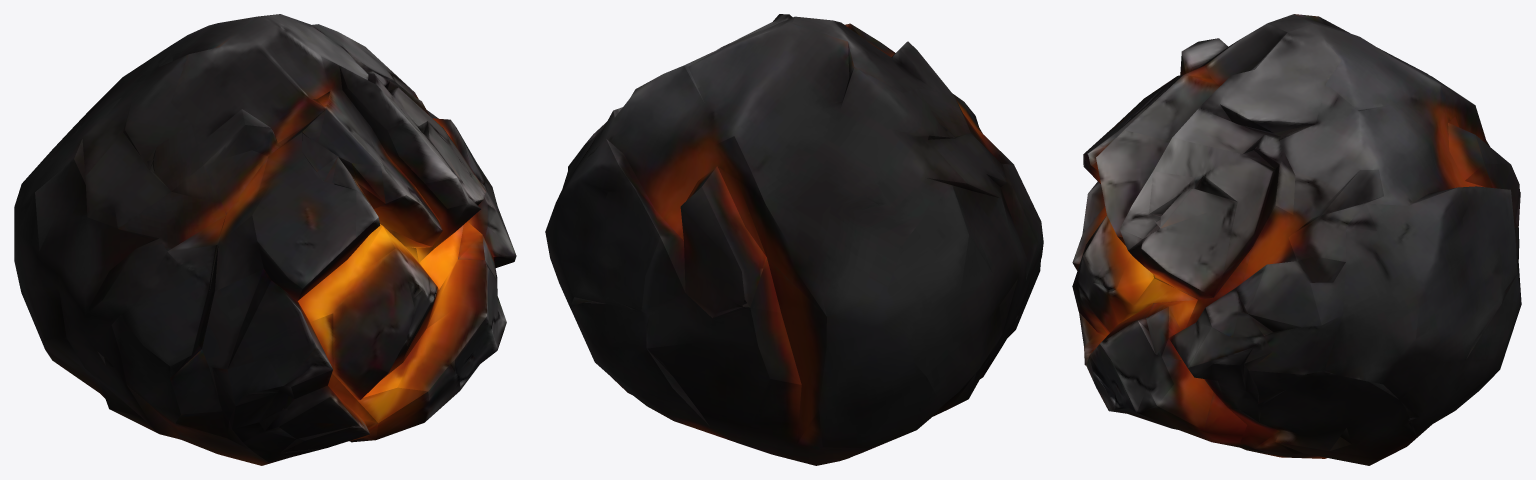
Rendered from m2MeteorRock.glb.
3 renders of one model, left to right at view 1: azimuth 30°, elevation 25°; view 2: azimuth 150°, elevation 25°; view 3: azimuth 270°, elevation 25°, orthographic.
Parts seen in each view (by area): view 1: model; view 2: model; view 3: model.
Part boxes in pixels (<box>): model: <box>14,14,516,465</box>; model: <box>545,14,1043,465</box>; model: <box>1072,14,1521,465</box>.
Bounding box in the file's own units: 1.9 × 1.73 × 1.7.
1 material, 1 textured.
